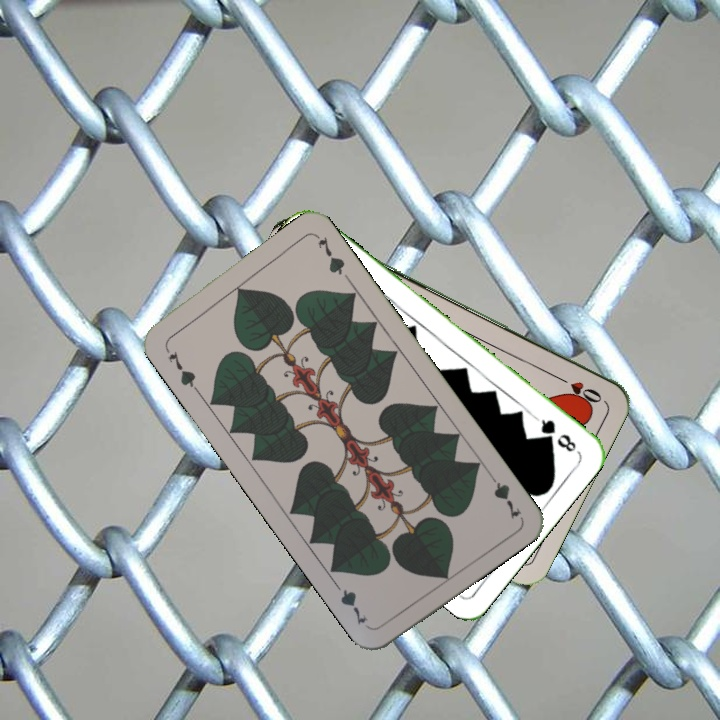G7: (483, 468, 524, 522), (164, 347, 201, 394)
G8: (531, 413, 579, 455)
HO: (551, 371, 605, 406)
